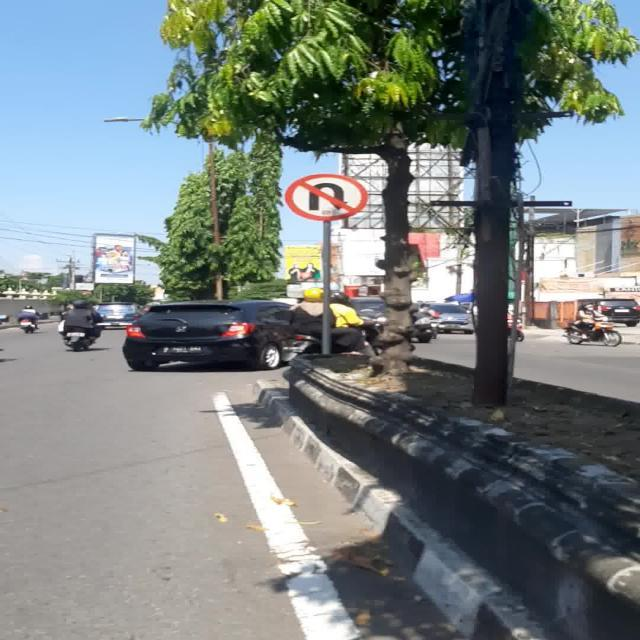Dilarang Putar Balik: (284, 173, 368, 220)
